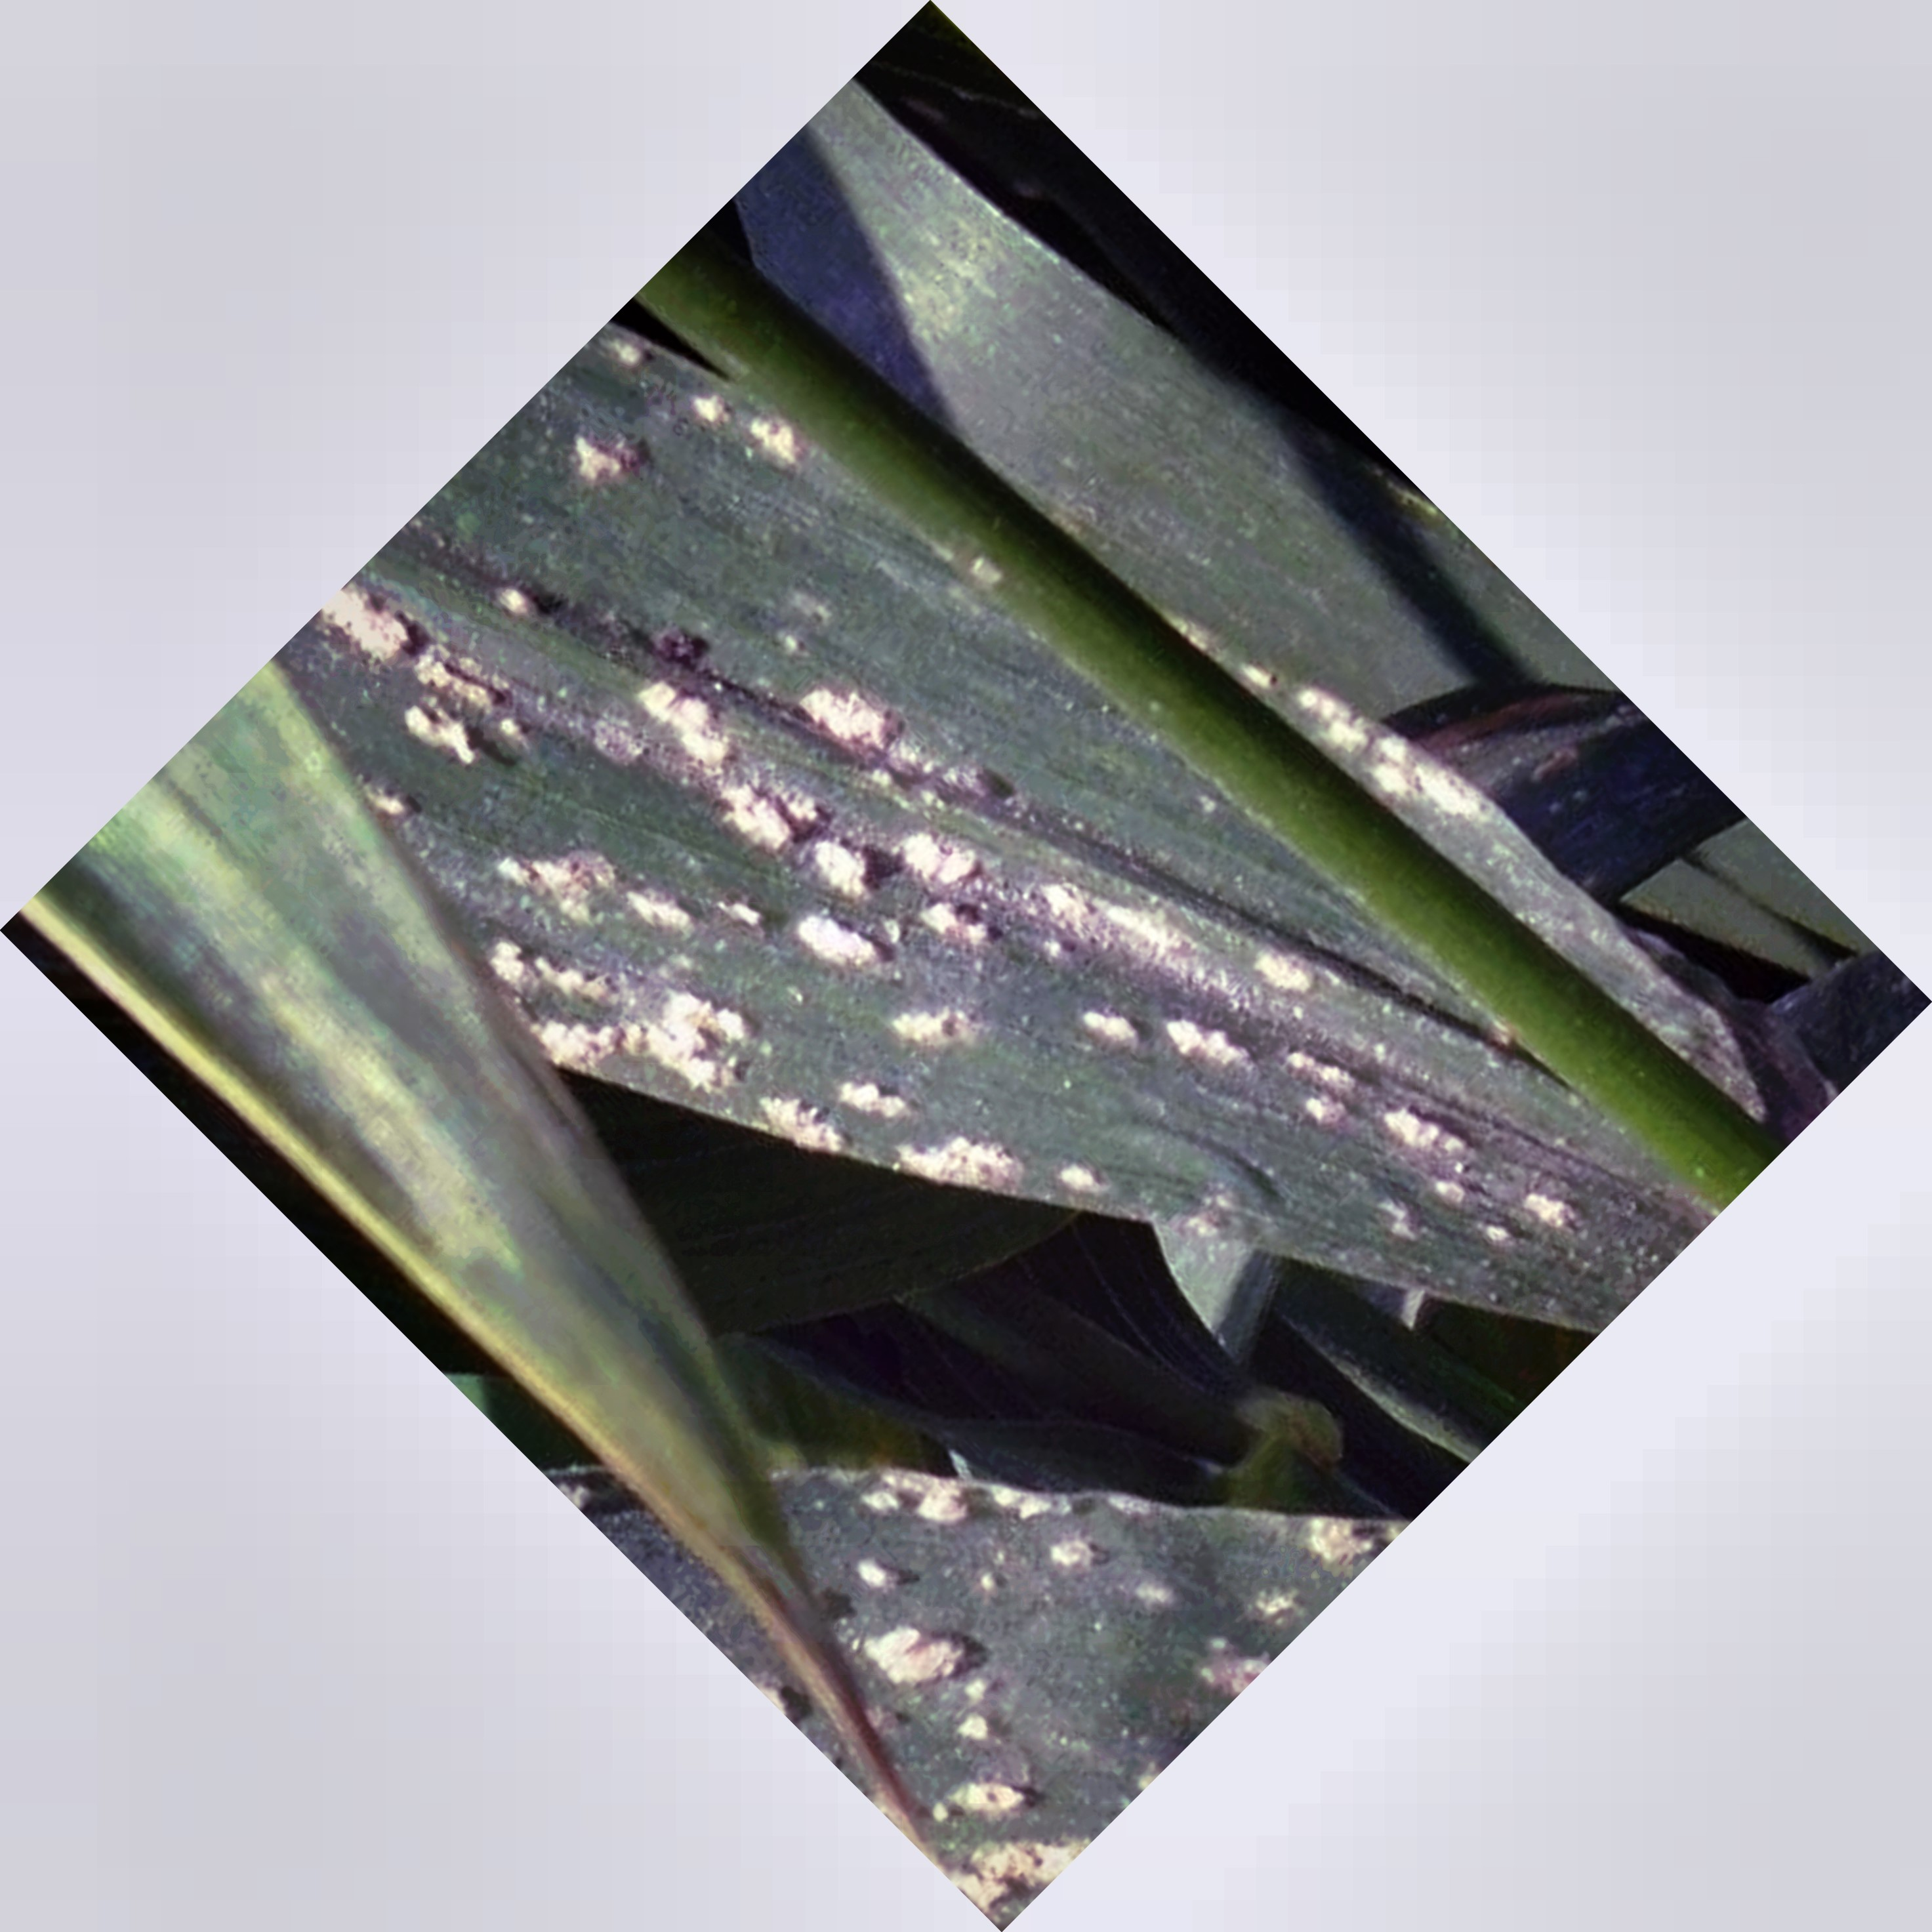Powdery Mildew: (377, 547, 1384, 1254)
